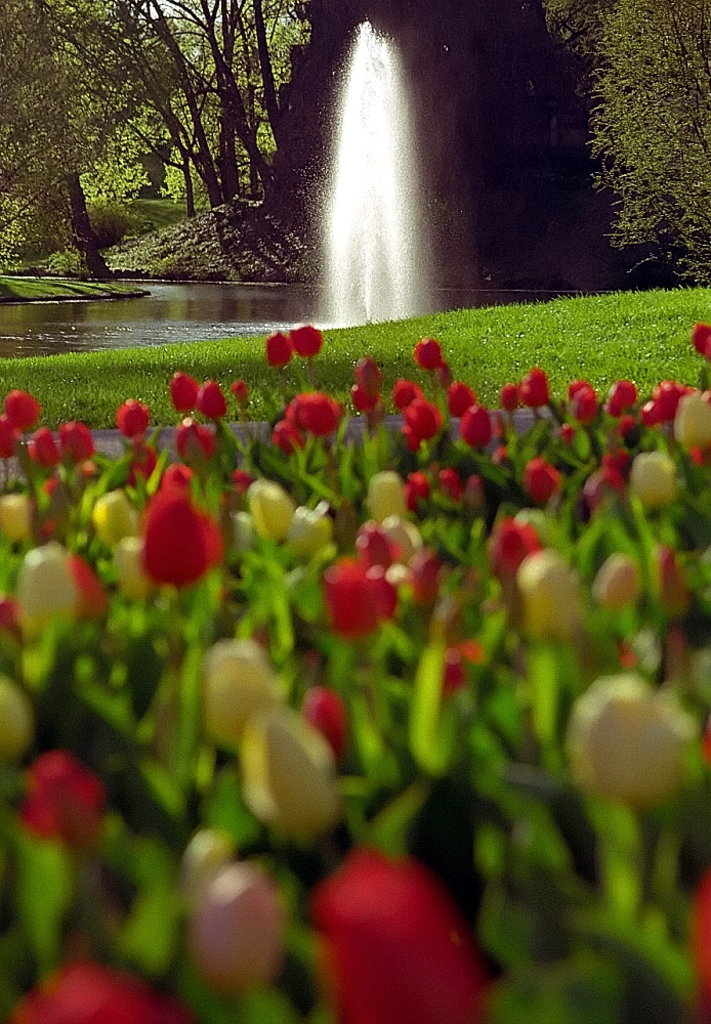Tree: (0, 0, 177, 282), (578, 0, 709, 292)
